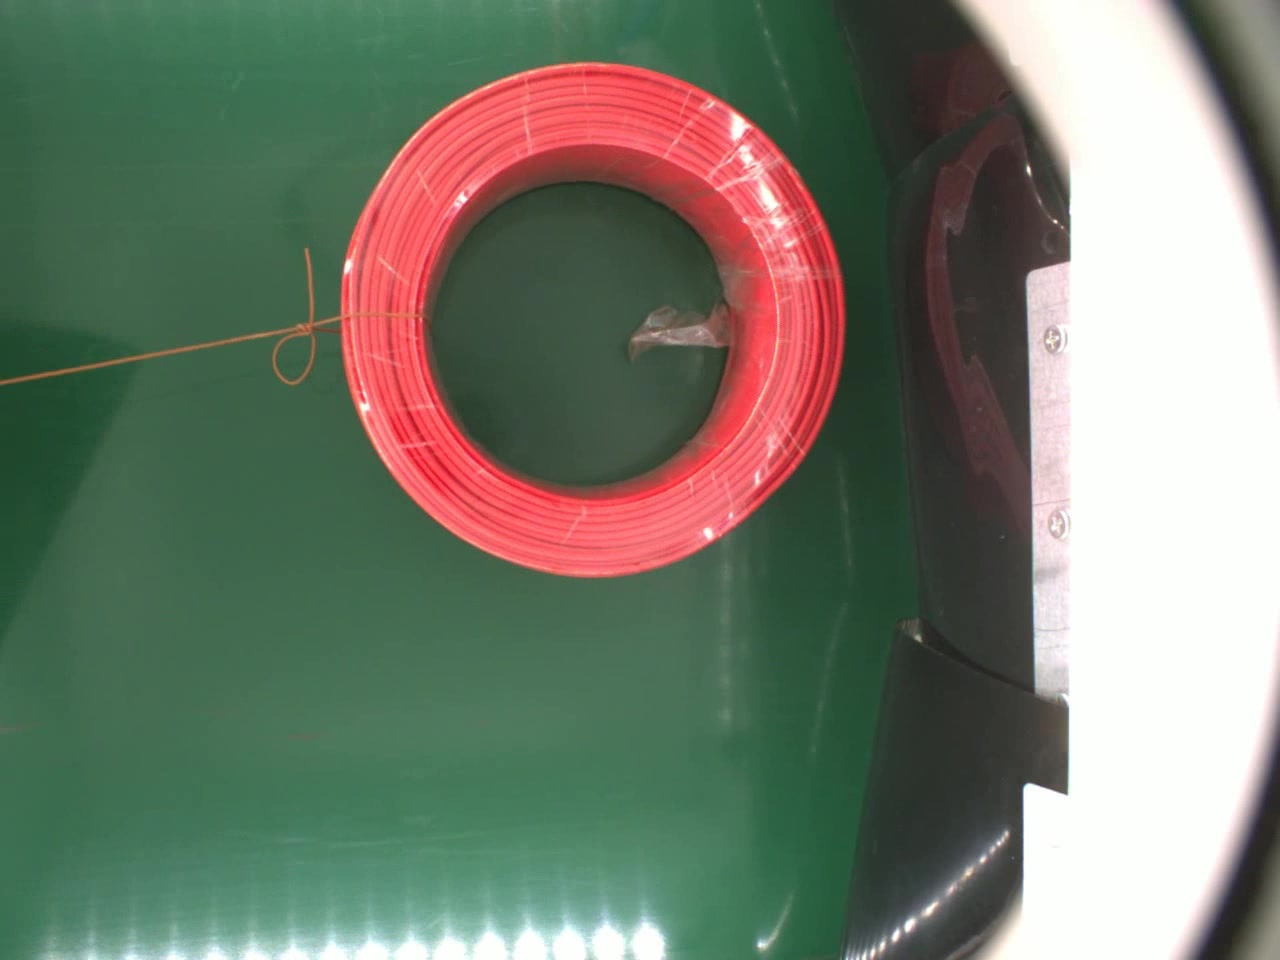red: (333, 58, 867, 588)
